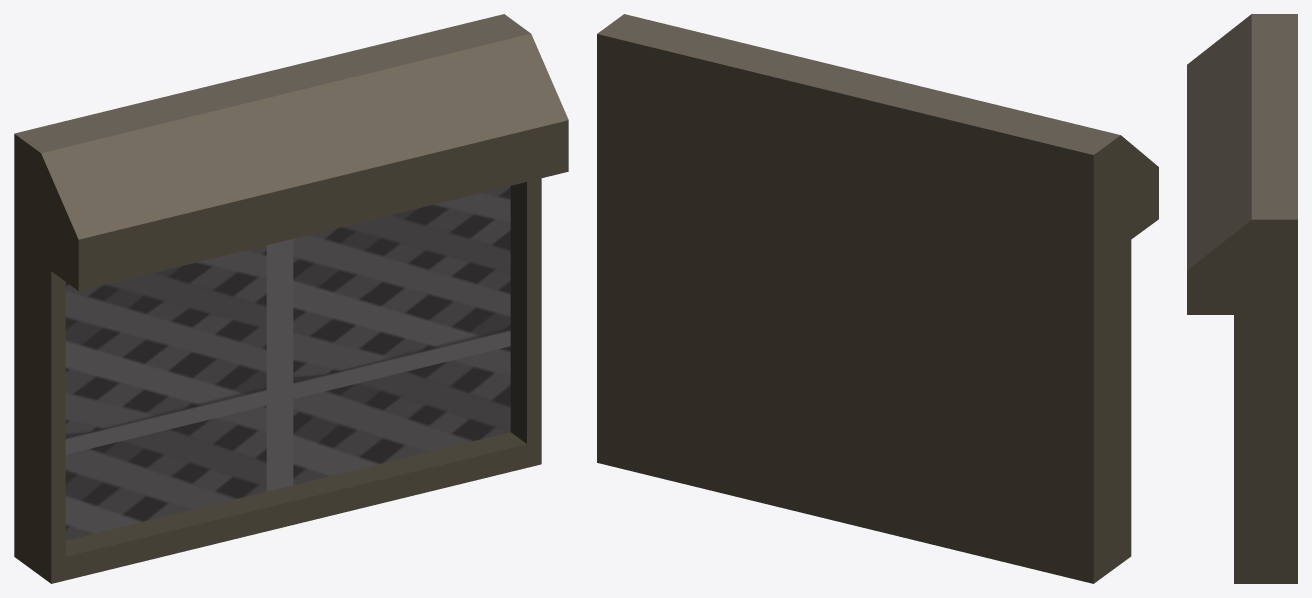
Rendered from Window_C11.fbx.
The picture shows the model from 3 angles, left to right: view 1: azimuth 30°, elevation 25°; view 2: azimuth 150°, elevation 25°; view 3: azimuth 270°, elevation 25°; orthographic projection. The views are drawn at different scales.
Visible parts, largest first — view 1: Window_C11; view 2: Window_C11; view 3: Window_C11.
Part boxes in pixels (bbox=[...]): Window_C11: bbox=[14, 14, 568, 583]; Window_C11: bbox=[597, 14, 1158, 583]; Window_C11: bbox=[1187, 14, 1297, 583].
Bounding box in the file's own units: 134 × 111 × 30.53.
Materials: 1 (1 with a texture image).
